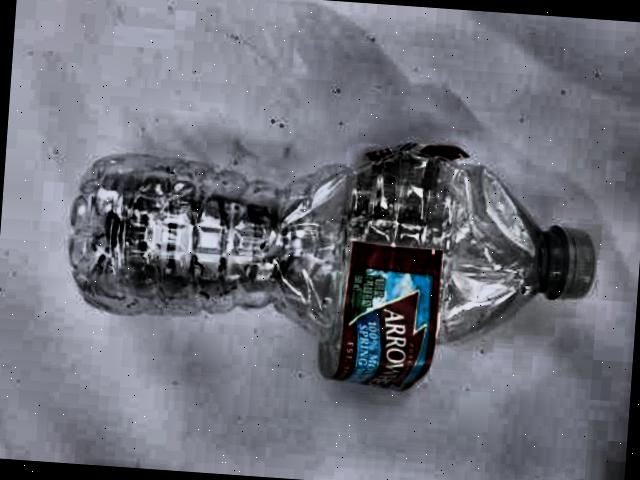Bottles: (23, 92, 613, 424)
